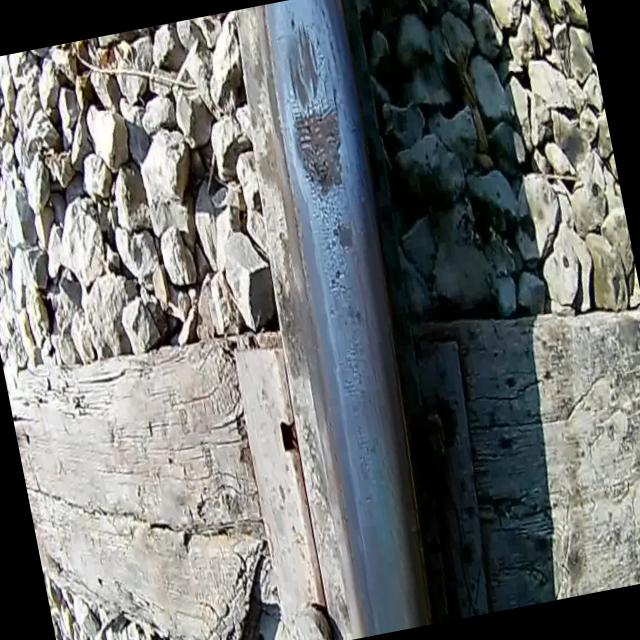Cracks: (306, 0, 355, 123), (282, 94, 348, 140), (292, 14, 323, 76), (278, 47, 305, 112)
Spallings: (284, 99, 360, 200)
Squats: (278, 84, 367, 215), (269, 2, 330, 114), (322, 214, 362, 260)
